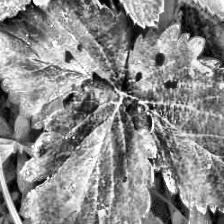Leaf Spot: (20, 70, 159, 224), (122, 21, 224, 216), (0, 0, 134, 130), (0, 0, 81, 24)
